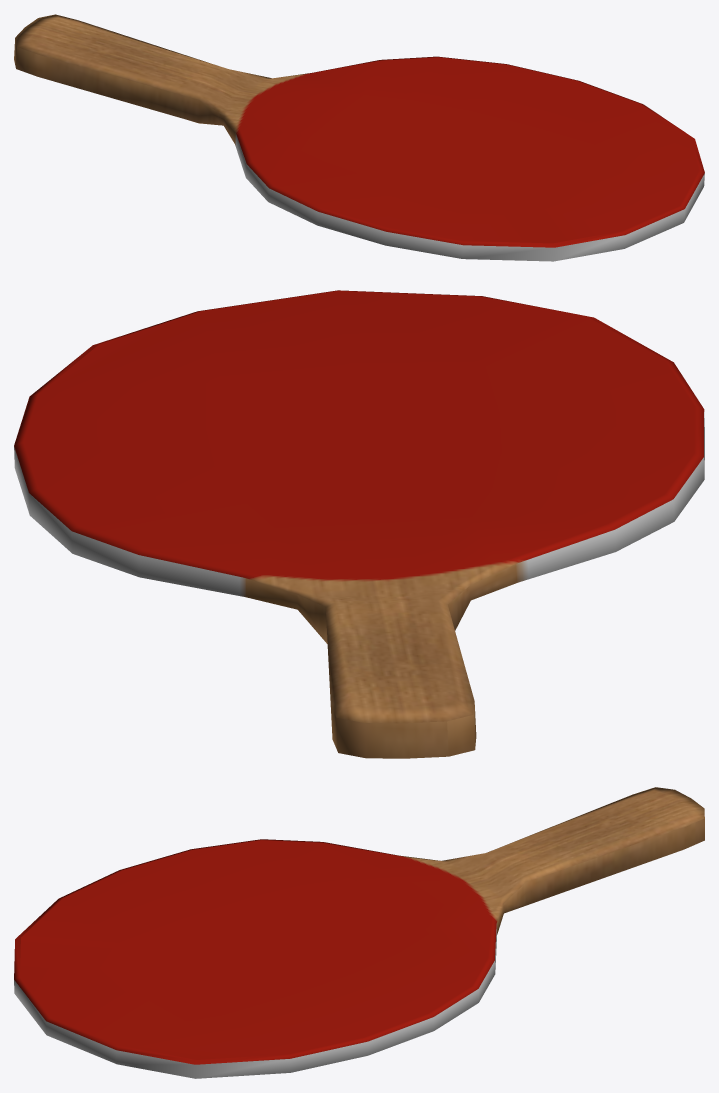
Rendered from pong-racket.gltf.
3 renders of one model, top to bottom at view 1: azimuth 30°, elevation 25°; view 2: azimuth 150°, elevation 25°; view 3: azimuth 270°, elevation 25°, orthographic. The views are drawn at different scales.
Visible parts, largest first — view 1: TT_Bat2_Material #28_0; view 2: TT_Bat2_Material #28_0; view 3: TT_Bat2_Material #28_0.
Part boxes in pixels (bbox=[...]): TT_Bat2_Material #28_0: bbox=[14, 14, 704, 261]; TT_Bat2_Material #28_0: bbox=[14, 290, 704, 758]; TT_Bat2_Material #28_0: bbox=[14, 787, 704, 1078].
Bounding box in the file's own units: 0.1595 × 0.0203 × 0.199.
1 material, 1 textured.
